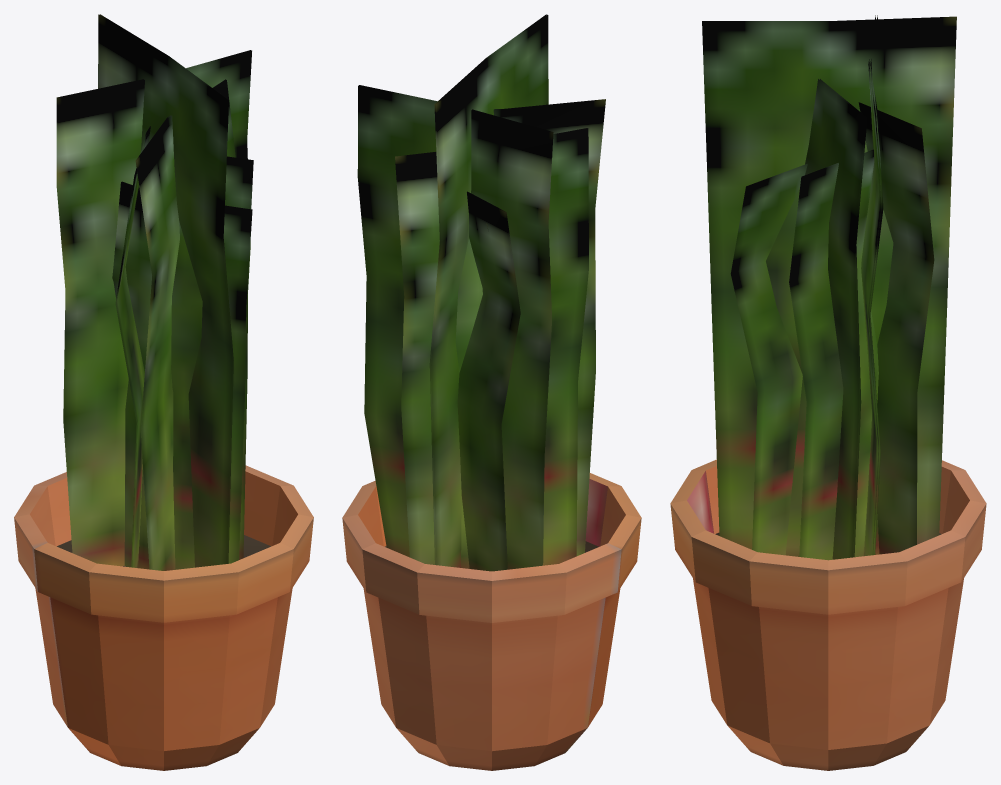
The model's file is SM_Plant_02.fbx.
3 views of the same model, side by side, from view 1: azimuth 30°, elevation 25°; view 2: azimuth 150°, elevation 25°; view 3: azimuth 270°, elevation 25° (orthographic). The views are drawn at different scales.
Visible parts, largest first — view 1: SM_Plant_02; view 2: SM_Plant_02; view 3: SM_Plant_02.
Part boxes in pixels (x1,y1,x2,y2): SM_Plant_02: [14, 14, 313, 770]; SM_Plant_02: [342, 14, 641, 770]; SM_Plant_02: [670, 15, 986, 770].
Bounding box in the file's own units: 14.82 × 36.92 × 14.82.
